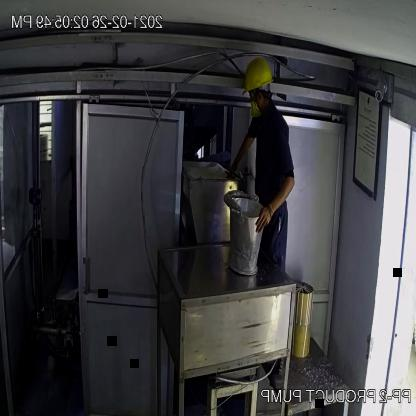helmet: (240, 54, 276, 100)
